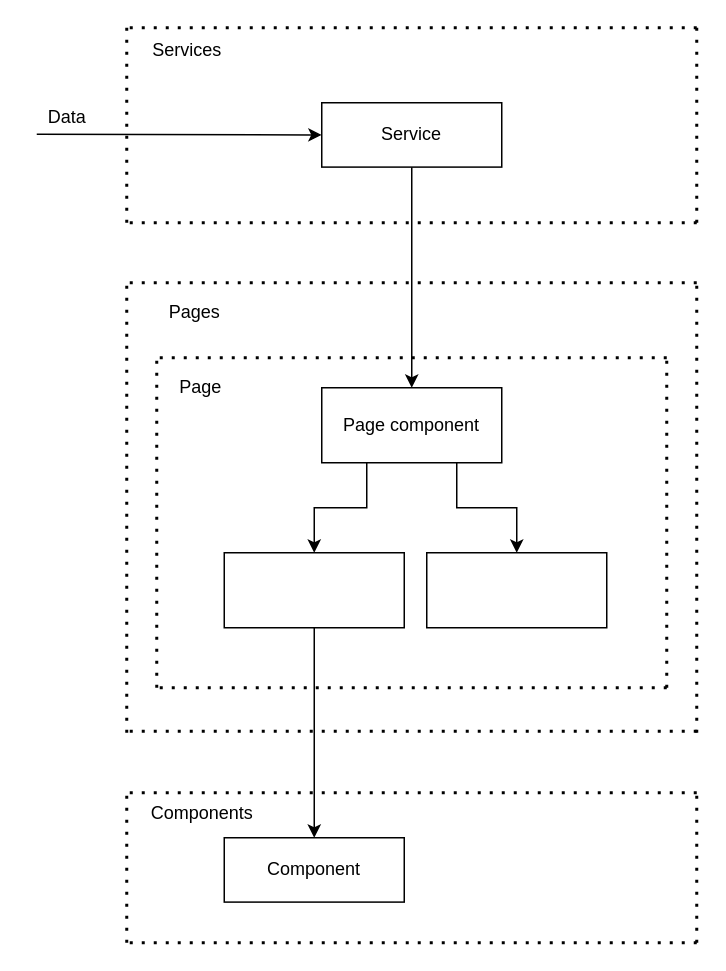
Image size: 726x971. Some labels were removed from this diagram. Each missing label, with the centre of its shape:
Page subcomponent: pixel 516 589
Shared subcomponent: pixel 313 589
